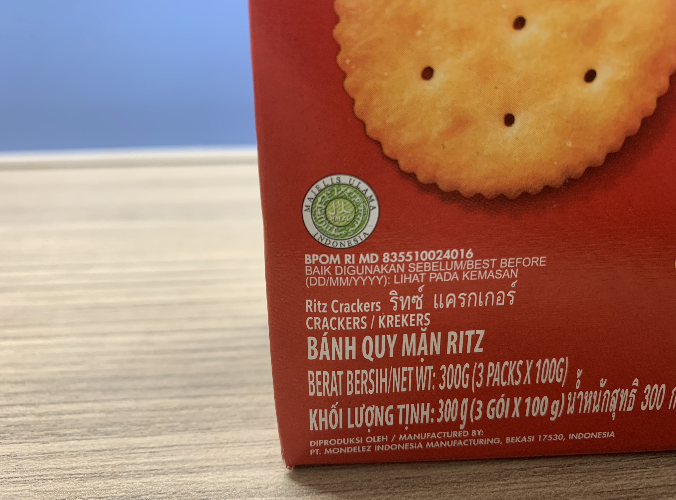halal: (315, 183, 369, 239)
